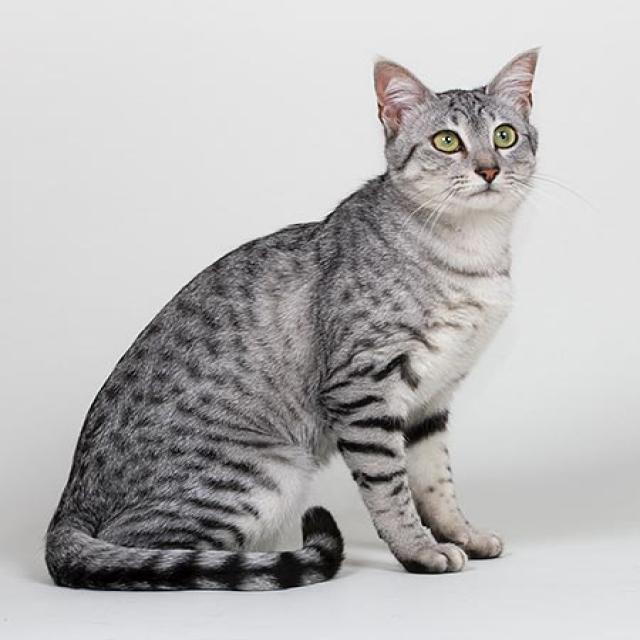Egyptian_Mau: (371, 46, 536, 207)
